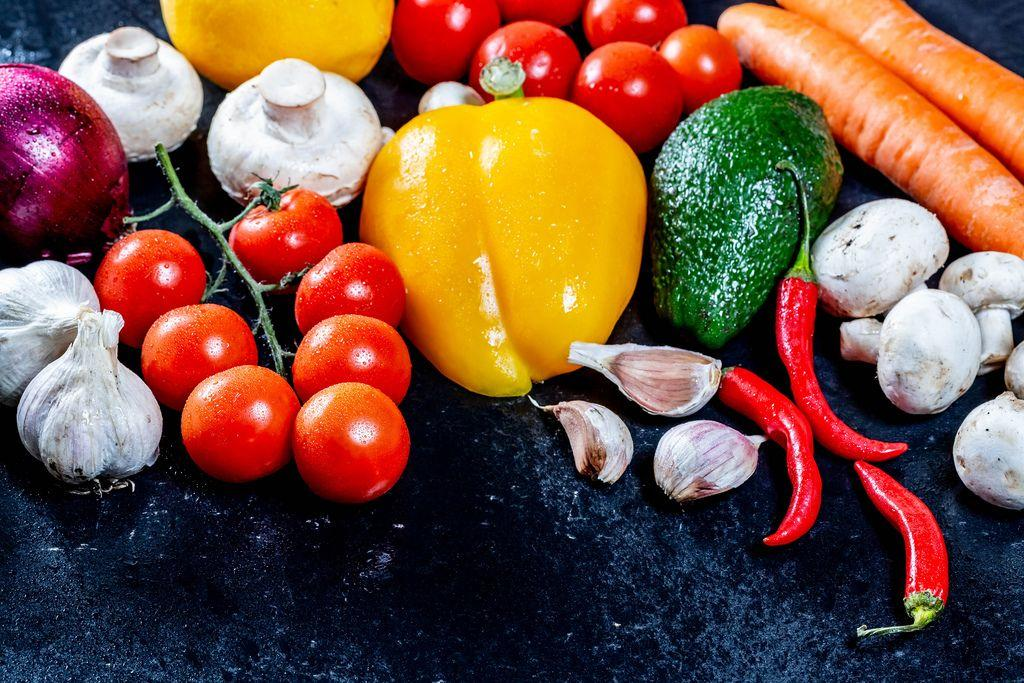bell pepper: (386, 91, 691, 451)
carrot: (708, 0, 1020, 198)
mushroom: (811, 149, 993, 402), (199, 60, 408, 194)
onion: (2, 41, 158, 250)
tomato: (112, 149, 428, 512)
